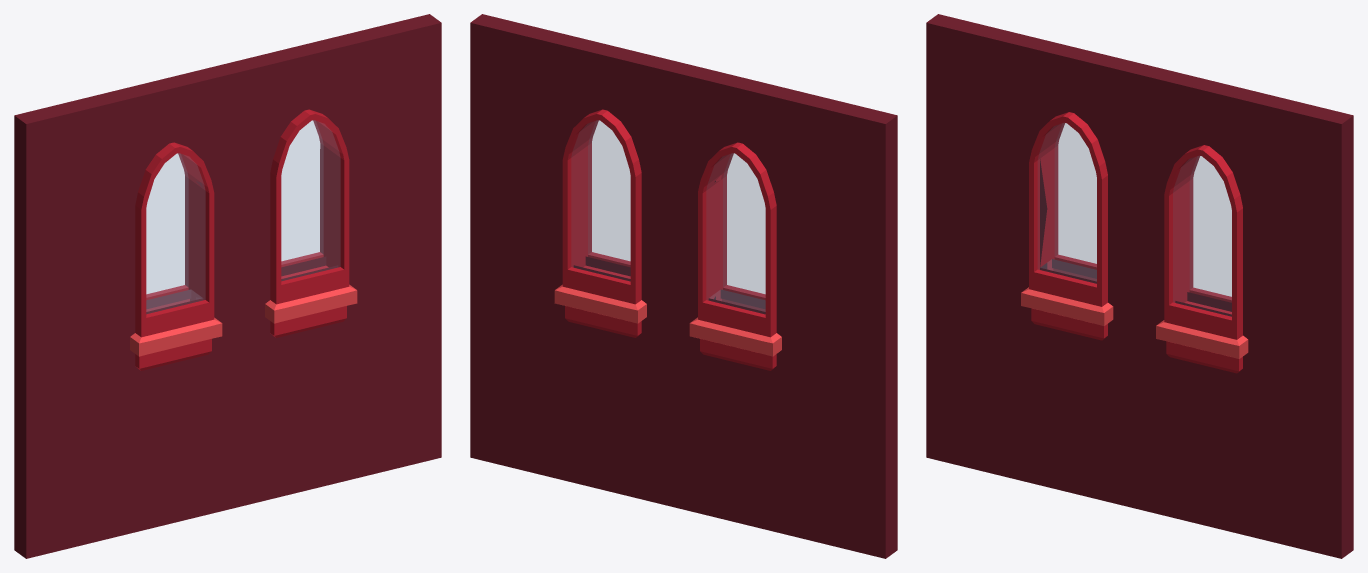
Rendered from wall_with2Window_001_grp.fbx.
3 views of the same model, side by side, from view 1: azimuth 30°, elevation 25°; view 2: azimuth 150°, elevation 25°; view 3: azimuth 330°, elevation 25° (orthographic).
Visible parts, largest first — view 1: wall_with2Window_001_grp; view 2: wall_with2Window_001_grp; view 3: wall_with2Window_001_grp.
Boxes of the visible parts, x1,y1,x2,y2 form: wall_with2Window_001_grp: [14, 14, 441, 558]; wall_with2Window_001_grp: [470, 14, 897, 558]; wall_with2Window_001_grp: [926, 14, 1353, 558].
Size of the model in its own units: 400 by 400 by 50.
